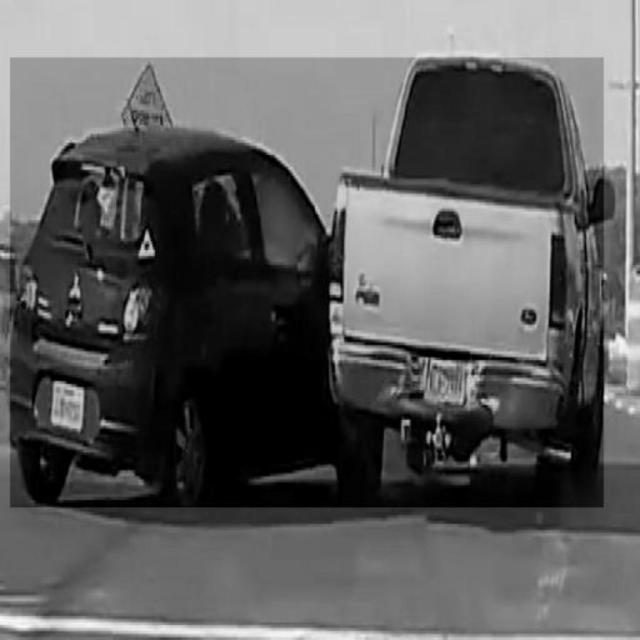accident: (11, 58, 604, 508)
